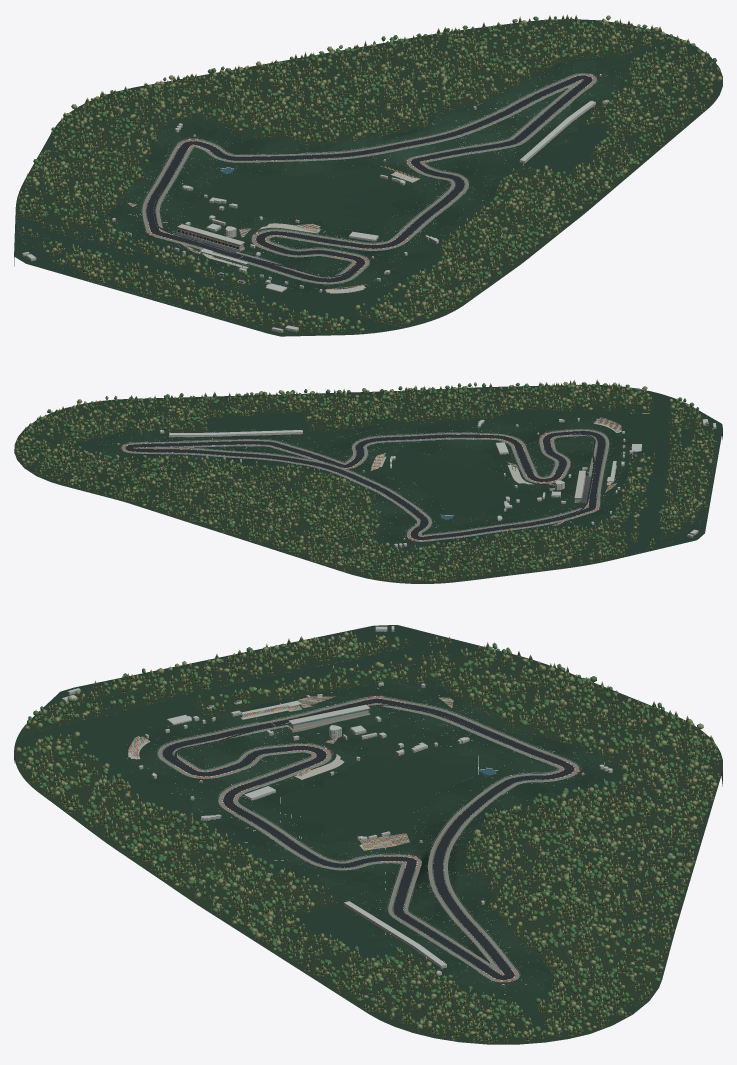
Rendered from Hockenheim.glb.
3 views of the same model, one above another, from view 1: azimuth 30°, elevation 25°; view 2: azimuth 150°, elevation 25°; view 3: azimuth 270°, elevation 25° (orthographic). The views are drawn at different scales.
Visible parts, largest first — view 1: terrain-woodland/forestFloor, scenery/leavesLight, scenery/leaves, terrain/ground, terrain-ground-finish-1, terrain-ground-finish-2, terrain-ground-finish-3, road/asphalt, runoff/gravel, terrain-ground-finish-0, terrain-ground-finish-4, scenery/wood (+3 smaller); view 2: terrain-woodland/forestFloor, scenery/leavesLight, scenery/leaves, terrain/ground, terrain-ground-finish-1, terrain-ground-finish-2, road/asphalt, terrain-ground-finish-3, runoff/gravel, terrain-ground-finish-0, terrain-ground-finish-4, shoulder/runoff (+3 smaller); view 3: terrain-woodland/forestFloor, scenery/leavesLight, scenery/leaves, terrain/ground, terrain-ground-finish-1, terrain-ground-finish-2, terrain-ground-finish-3, road/asphalt, runoff/gravel, terrain-ground-finish-0, terrain-ground-finish-4, shoulder/runoff (+3 smaller).
Part boxes in pixels (left/top/right/bottom): terrain-woodland/forestFloor: left=15, top=19, right=722, bottom=335; scenery/leavesLight: left=18, top=14, right=722, bottom=333; scenery/leaves: left=18, top=16, right=719, bottom=332; terrain/ground: left=16, top=19, right=668, bottom=332; terrain-ground-finish-1: left=106, top=62, right=628, bottom=295; terrain-ground-finish-2: left=107, top=60, right=622, bottom=295; terrain-ground-finish-3: left=112, top=61, right=619, bottom=295; road/asphalt: left=146, top=75, right=592, bottom=282; runoff/gravel: left=142, top=73, right=596, bottom=283; terrain-ground-finish-0: left=108, top=63, right=600, bottom=294; terrain-ground-finish-4: left=114, top=59, right=615, bottom=285; scenery/wood: left=21, top=19, right=719, bottom=333; terrain-woodland/forestFloor: left=14, top=384, right=716, bottom=583; scenery/leavesLight: left=15, top=379, right=714, bottom=582; scenery/leaves: left=14, top=382, right=715, bottom=581; terrain/ground: left=24, top=391, right=706, bottom=556; terrain-ground-finish-1: left=96, top=419, right=635, bottom=546; terrain-ground-finish-2: left=100, top=415, right=637, bottom=548; road/asphalt: left=125, top=431, right=605, bottom=539; terrain-ground-finish-3: left=98, top=415, right=639, bottom=549; runoff/gravel: left=122, top=429, right=609, bottom=541; terrain-ground-finish-0: left=119, top=418, right=629, bottom=545; terrain-ground-finish-4: left=94, top=421, right=637, bottom=549; shoulder/runoff: left=124, top=430, right=606, bottom=540; terrain-woodland/forestFloor: left=14, top=636, right=722, bottom=1044; scenery/leavesLight: left=16, top=631, right=721, bottom=1043; scenery/leaves: left=17, top=634, right=720, bottom=1042; terrain/ground: left=14, top=634, right=642, bottom=1034; terrain-ground-finish-1: left=127, top=683, right=610, bottom=1000; terrain-ground-finish-2: left=127, top=682, right=610, bottom=997; terrain-ground-finish-3: left=127, top=681, right=610, bottom=993; road/asphalt: left=162, top=699, right=574, bottom=979; runoff/gravel: left=157, top=697, right=578, bottom=981; terrain-ground-finish-0: left=127, top=685, right=604, bottom=972; terrain-ground-finish-4: left=138, top=681, right=609, bottom=991; shoulder/runoff: left=161, top=698, right=575, bottom=980.
Bounding box in the file's own units: 2202 × 66.33 × 1614.
